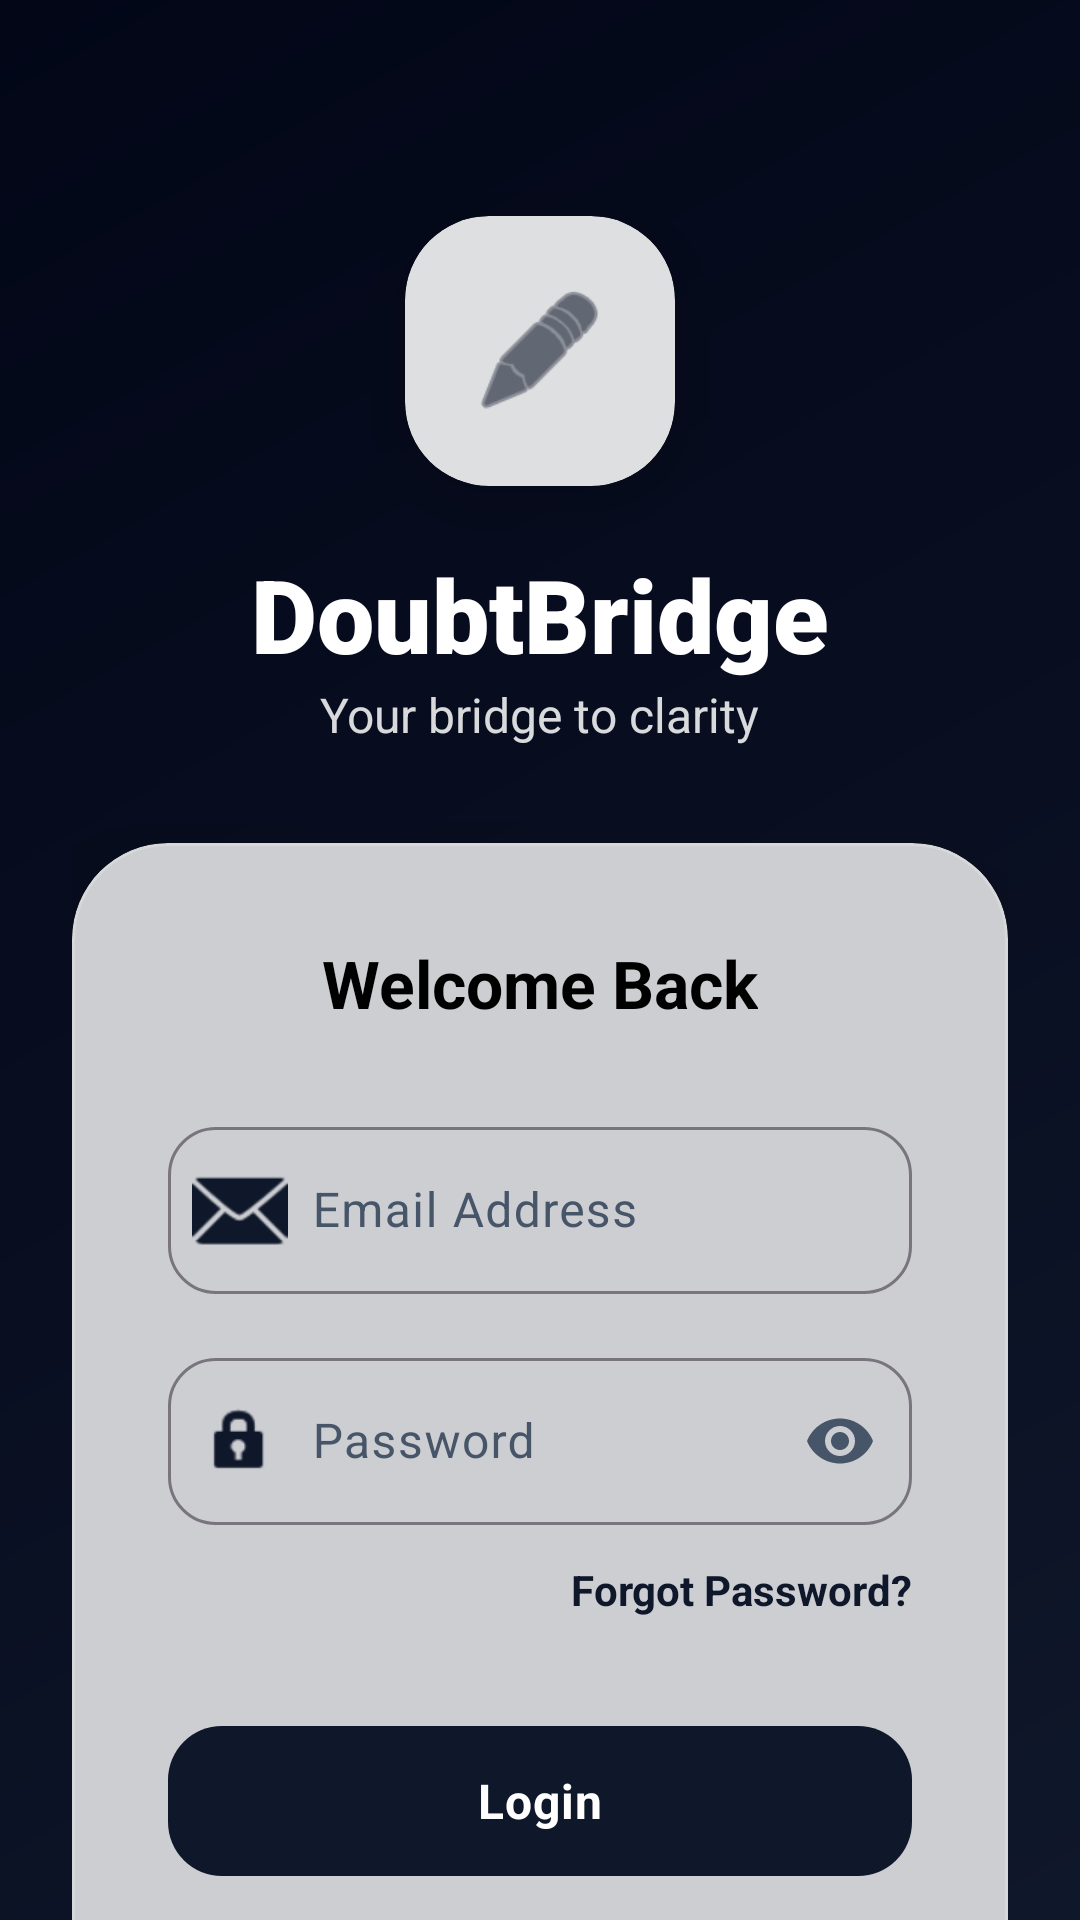

Icon click points for this 1080×1920 phone screenshot, format [x,y]:
edit: [540,351]
